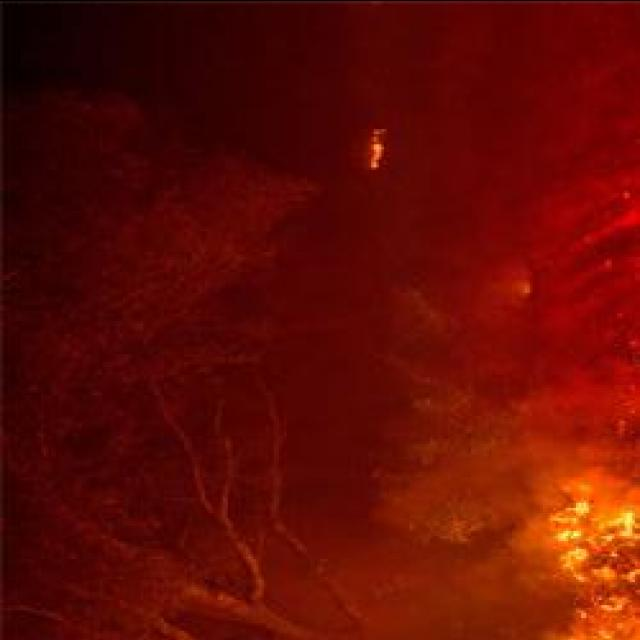fire: (557, 499, 640, 567)
smoke: (457, 508, 559, 599), (482, 431, 592, 514), (538, 614, 640, 640)
